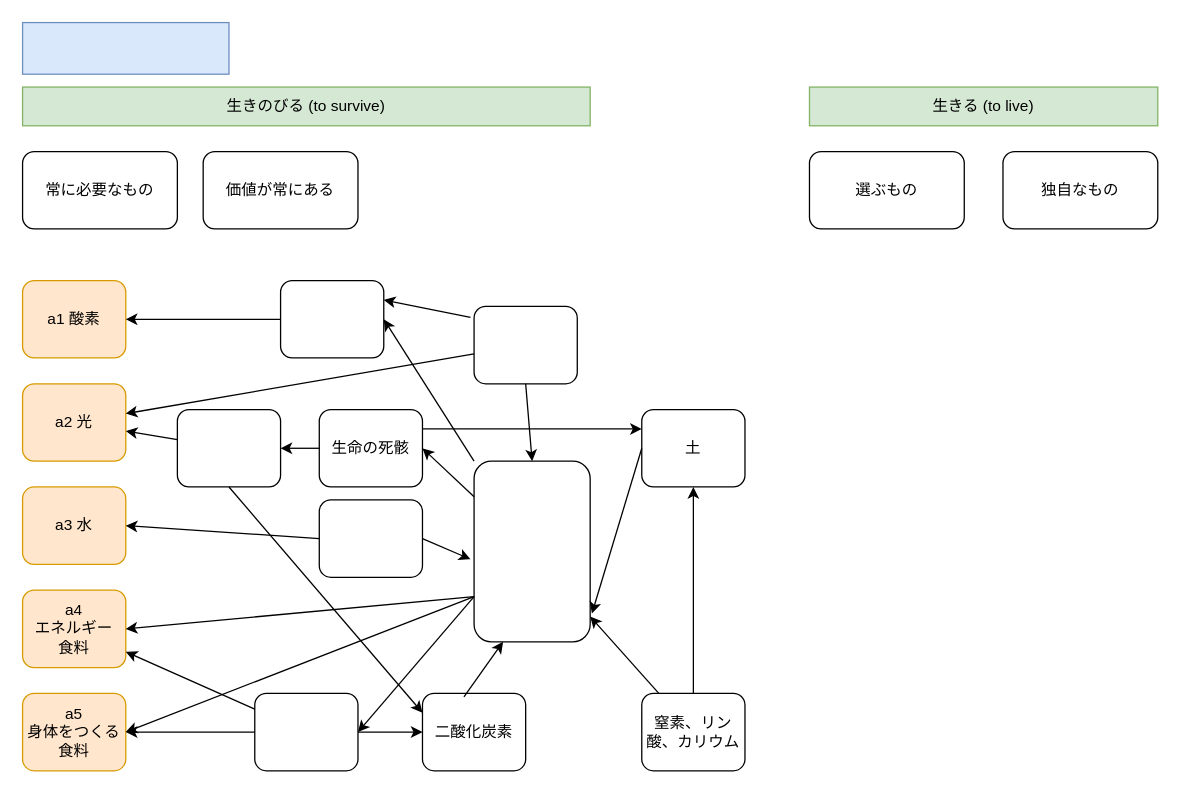
Image size: 1180x793. Some labels were removed from this diagram. Each missing label, with the box of its shape:
光合成をする 植物: (279, 279, 384, 358)
地表の淡水: (318, 499, 422, 577)
太陽の 光: (473, 305, 577, 384)
植物: (473, 460, 590, 642)
畜産 （牛、豚、鶏）: (253, 692, 358, 771)
石油、石炭、天然ガス: (176, 408, 281, 487)
長期思考 ～短期と予防②～: (21, 21, 229, 74)
